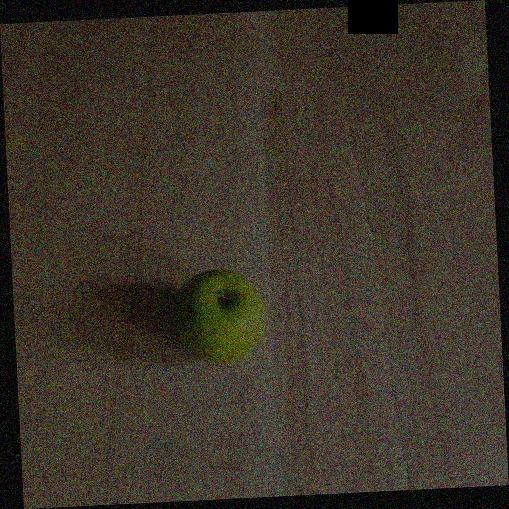green apple: (173, 263, 268, 360)
